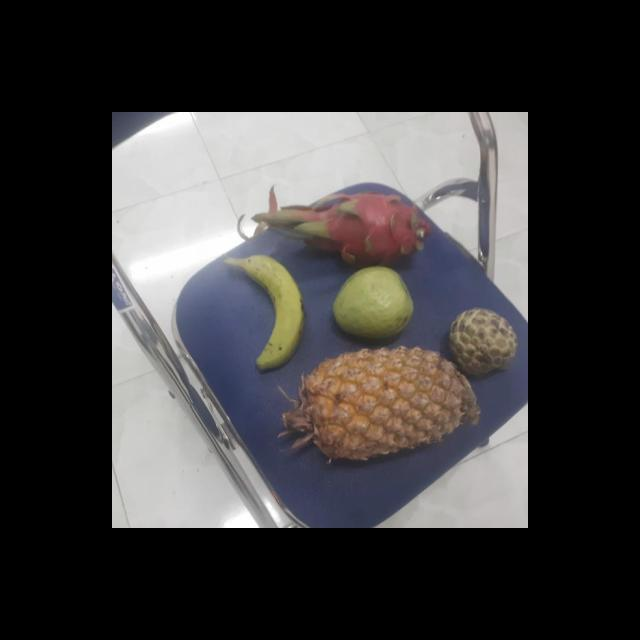Sakya fruit: (444, 310, 518, 378)
banana: (230, 257, 304, 367)
guava: (330, 262, 416, 340)
pineapple: (292, 346, 470, 459)
pitaya: (306, 184, 424, 270)
